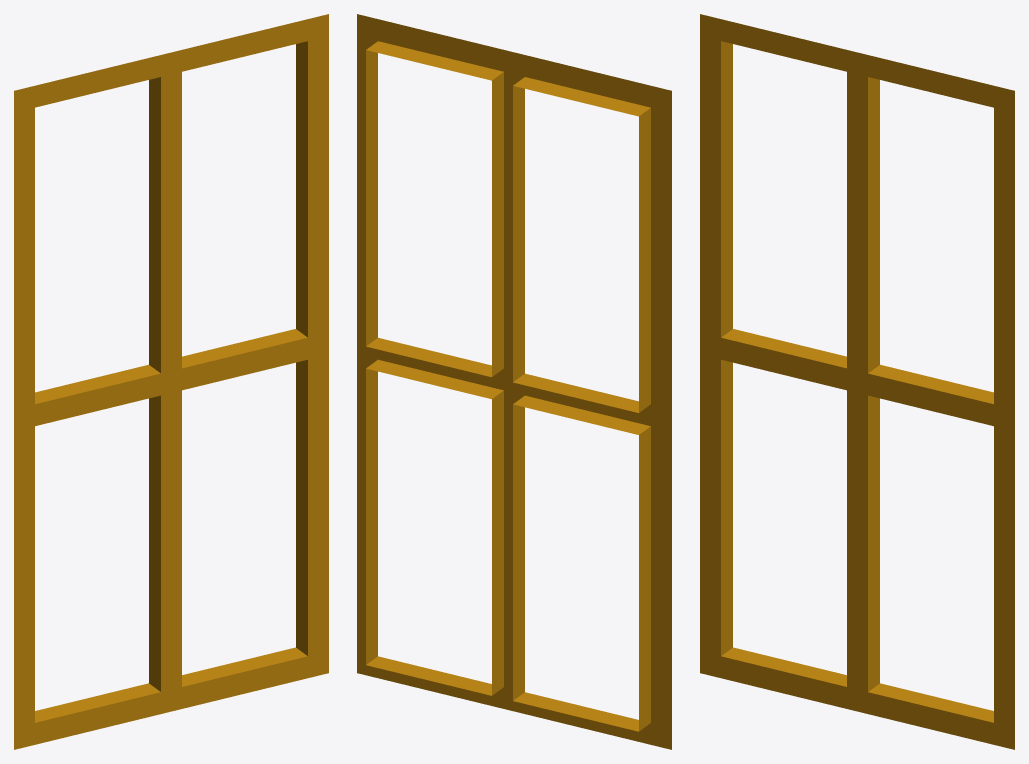
File: ventana_P1.fbx
The picture shows the model from 3 angles, left to right: view 1: azimuth 30°, elevation 25°; view 2: azimuth 150°, elevation 25°; view 3: azimuth 330°, elevation 25°; orthographic projection.
Visible parts, largest first — view 1: ventana_P1; view 2: ventana_P1; view 3: ventana_P1.
Part boxes in pixels (<box>): ventana_P1: <box>14,14,328,749</box>; ventana_P1: <box>357,14,671,749</box>; ventana_P1: <box>700,14,1014,749</box>.
Size of the model in its own units: 150 by 300 by 10.
